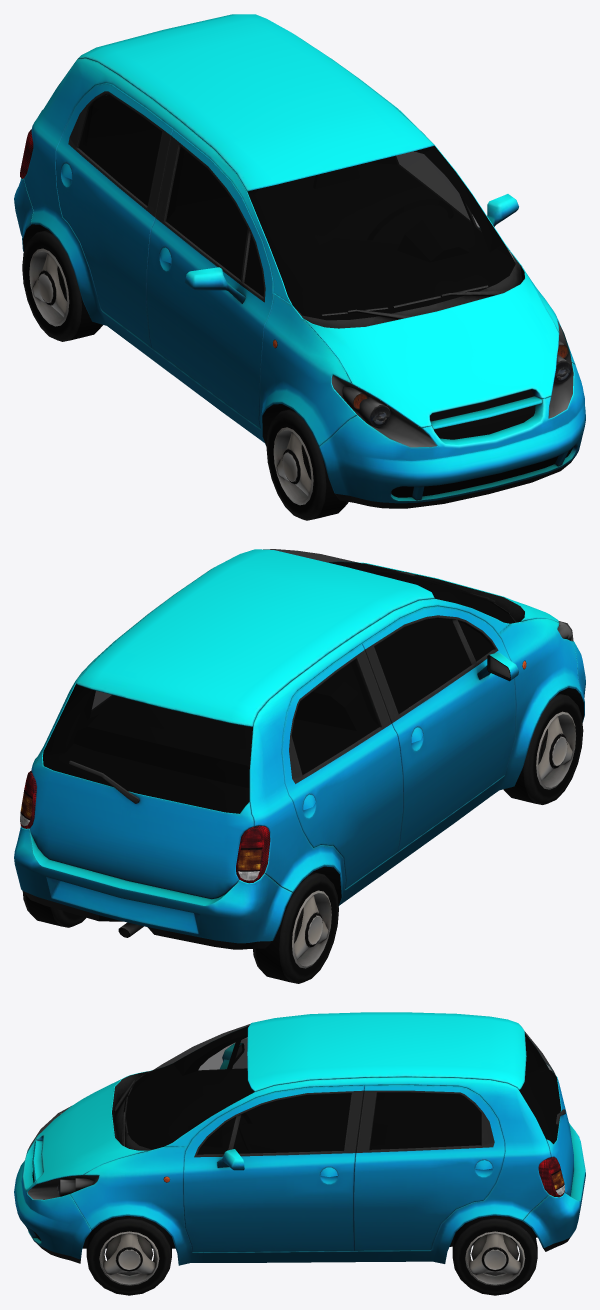
Rendered from compact.glb.
The picture shows the model from 3 angles, top to bottom: view 1: azimuth 30°, elevation 25°; view 2: azimuth 150°, elevation 25°; view 3: azimuth 270°, elevation 25°; orthographic projection. The views are drawn at different scales.
Parts seen in each view (by area): view 1: Compact Body_Body_0, Compact Body_Glass_0, Wheel_C003_Wheel_0, Wheel_C002_Wheel_0, Compact Body_Optics_0; view 2: Compact Body_Body_0, Compact Body_Glass_0, Wheel_C002_Wheel_0, Wheel_C003_Wheel_0, Compact Body_Optics_0, Wheel_C001_Wheel_0; view 3: Compact Body_Body_0, Compact Body_Glass_0, Wheel_C001_Wheel_0, Wheel_C_Wheel_0, Compact Body_Optics_0.
Part boxes in pixels (x1=…): Compact Body_Body_0: x1=14, y1=14, x2=585, y2=508; Compact Body_Glass_0: x1=59, y1=84, x2=573, y2=447; Wheel_C003_Wheel_0: x1=266, y1=409, x2=348, y2=520; Wheel_C002_Wheel_0: x1=22, y1=229, x2=102, y2=341; Compact Body_Optics_0: x1=20, y1=129, x2=571, y2=426; Compact Body_Body_0: x1=14, y1=549, x2=585, y2=949; Compact Body_Glass_0: x1=43, y1=549, x2=573, y2=813; Wheel_C002_Wheel_0: x1=253, y1=872, x2=338, y2=983; Wheel_C003_Wheel_0: x1=503, y1=693, x2=583, y2=804; Compact Body_Optics_0: x1=20, y1=660, x2=526, y2=883; Wheel_C001_Wheel_0: x1=22, y1=891, x2=86, y2=927; Compact Body_Body_0: x1=14, y1=1012, x2=585, y2=1265; Compact Body_Glass_0: x1=27, y1=1024, x2=560, y2=1199; Wheel_C001_Wheel_0: x1=452, y1=1215, x2=537, y2=1295; Wheel_C_Wheel_0: x1=86, y1=1216, x2=171, y2=1295; Compact Body_Optics_0: x1=57, y1=1157, x2=564, y2=1197.
Size of the model in its own units: 1.61 by 1.32 by 3.26.
4 materials, 3 textured.
